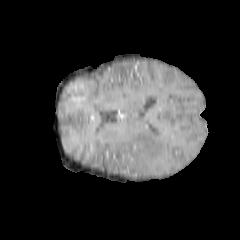glioma: (121, 130, 167, 160)
